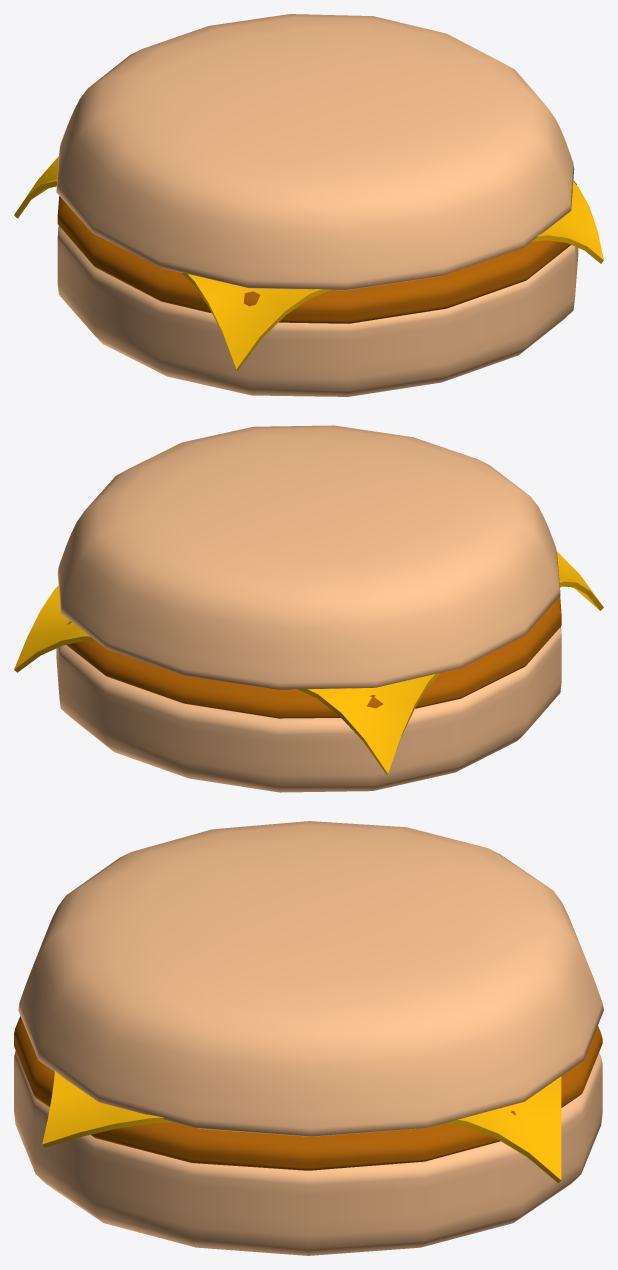
The model's file is hamburger.glb.
The picture shows the model from 3 angles, top to bottom: view 1: azimuth 30°, elevation 25°; view 2: azimuth 150°, elevation 25°; view 3: azimuth 270°, elevation 25°; orthographic projection. The views are drawn at different scales.
Parts seen in each view (by area): view 1: Cube.002, Cube, Cube.001, Plane; view 2: Cube.002, Cube, Cube.001, Plane; view 3: Cube.002, Cube, Cube.001, Plane.
Boxes of the visible parts, x1=… form: Cube.002: x1=56, y1=14, x2=574, y2=290; Cube: x1=57, y1=225, x2=578, y2=396; Cube.001: x1=57, y1=180, x2=576, y2=323; Plane: x1=14, y1=156, x2=603, y2=370; Cube.002: x1=57, y1=425, x2=560, y2=689; Cube: x1=56, y1=627, x2=561, y2=792; Cube.001: x1=66, y1=595, x2=561, y2=718; Plane: x1=14, y1=551, x2=603, y2=774; Cube.002: x1=18, y1=821, x2=603, y2=1136; Cube: x1=14, y1=1051, x2=602, y2=1255; Cube.001: x1=14, y1=1016, x2=602, y2=1170; Plane: x1=42, y1=1071, x2=561, y2=1182.
Bounding box in the file's own units: 8.75 × 4.15 × 8.76.
